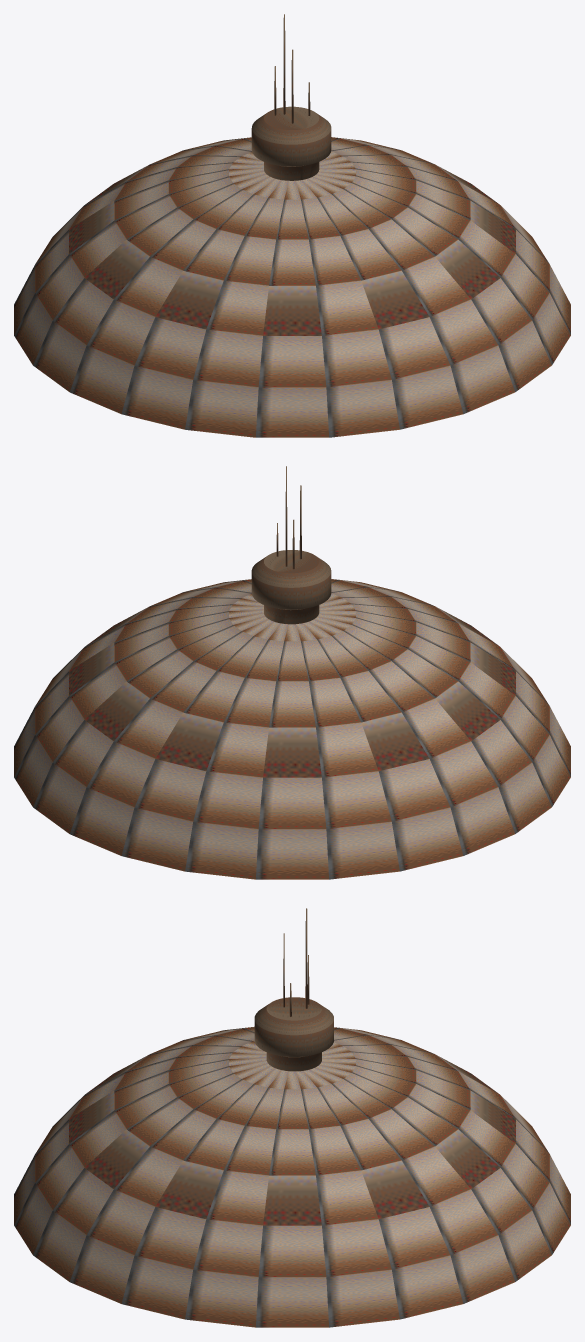
3 views of the same model, one above another, from view 1: azimuth 30°, elevation 25°; view 2: azimuth 150°, elevation 25°; view 3: azimuth 270°, elevation 25° (orthographic).
Parts seen in each view (by area): view 1: A3; view 2: A3; view 3: A3.
Boxes of the visible parts, <box> form: A3: <box>14,14,570,437</box>; A3: <box>14,466,570,879</box>; A3: <box>14,908,570,1327</box>.
Bounding box in the file's own units: 371 × 221 × 371.
